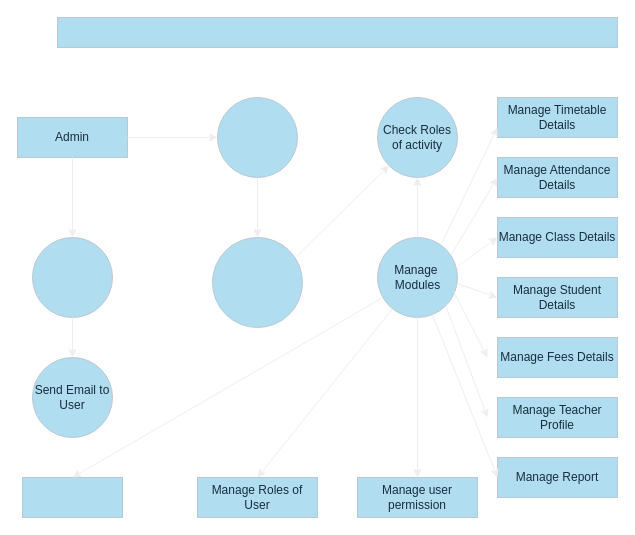
The diagram is 635 pixels wide and 535 high, and some of its shapes have lost their labels. The box of each missing label's shape, as (x1, y1, x2, y2) in pixels:
Check Credentials: (212, 236, 302, 328)
Forget Password: (32, 236, 112, 318)
Login to System: (216, 96, 298, 178)
Manage System Admins: (22, 476, 122, 518)
Student information System: (56, 16, 618, 48)
